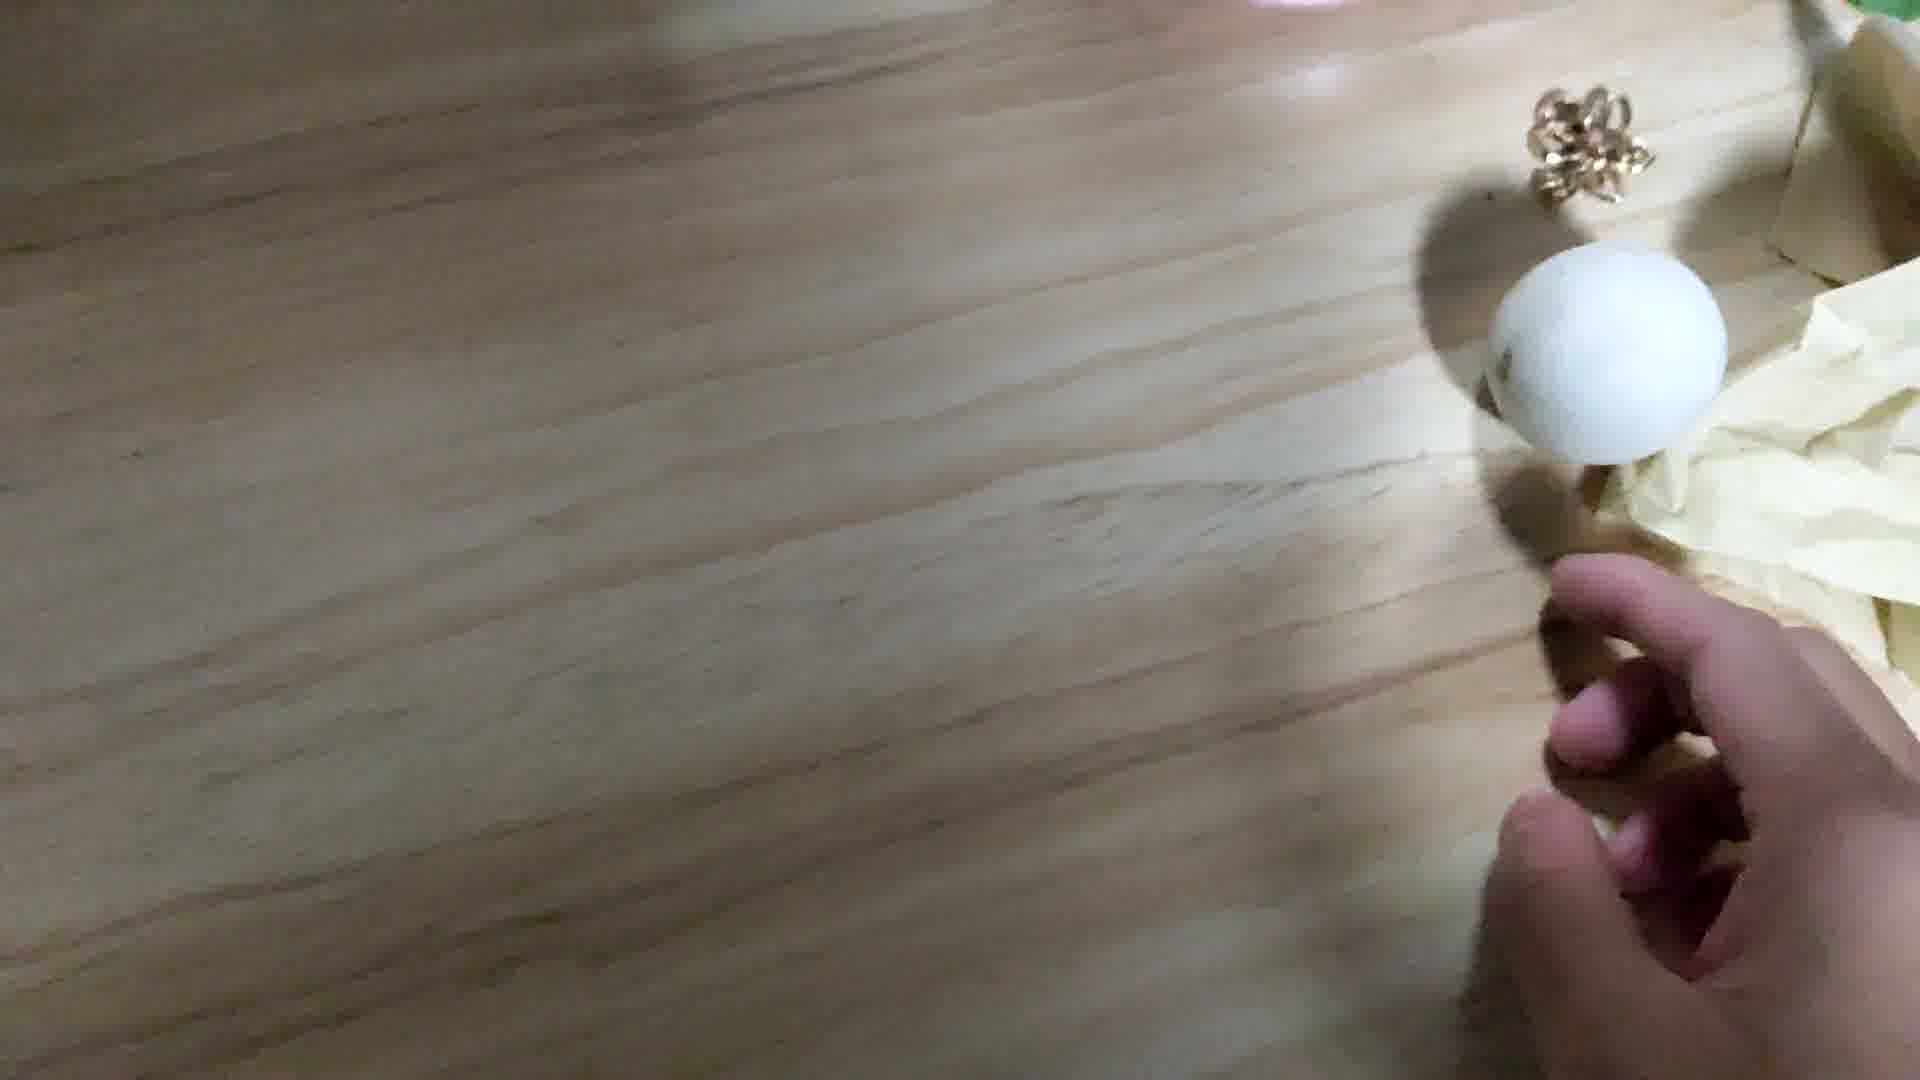Ball: (1487, 237, 1722, 469)
